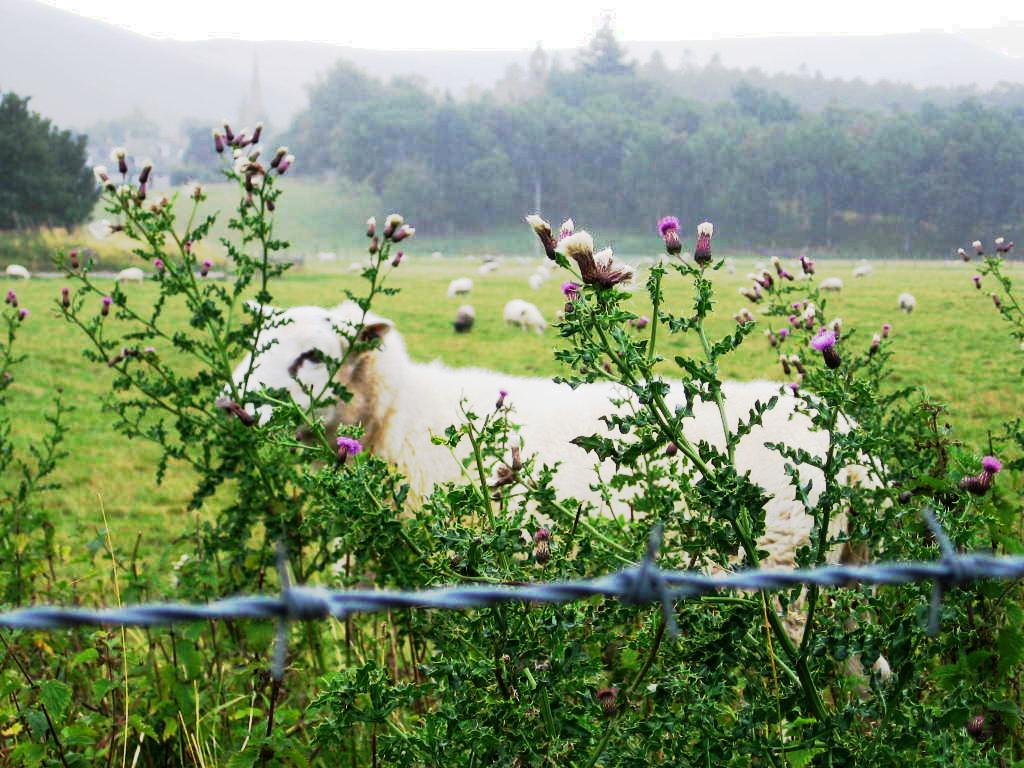Sheep: (210, 244, 835, 625)
